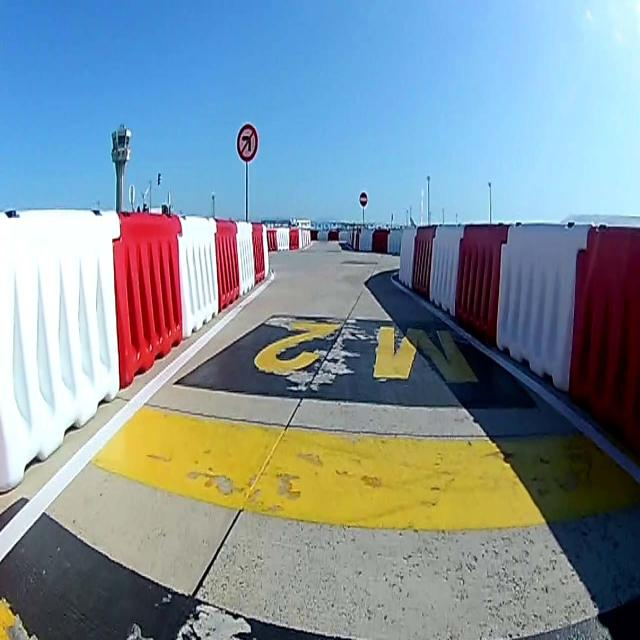girisyok: (359, 190, 368, 207)
soladonulmez: (237, 124, 259, 162)
